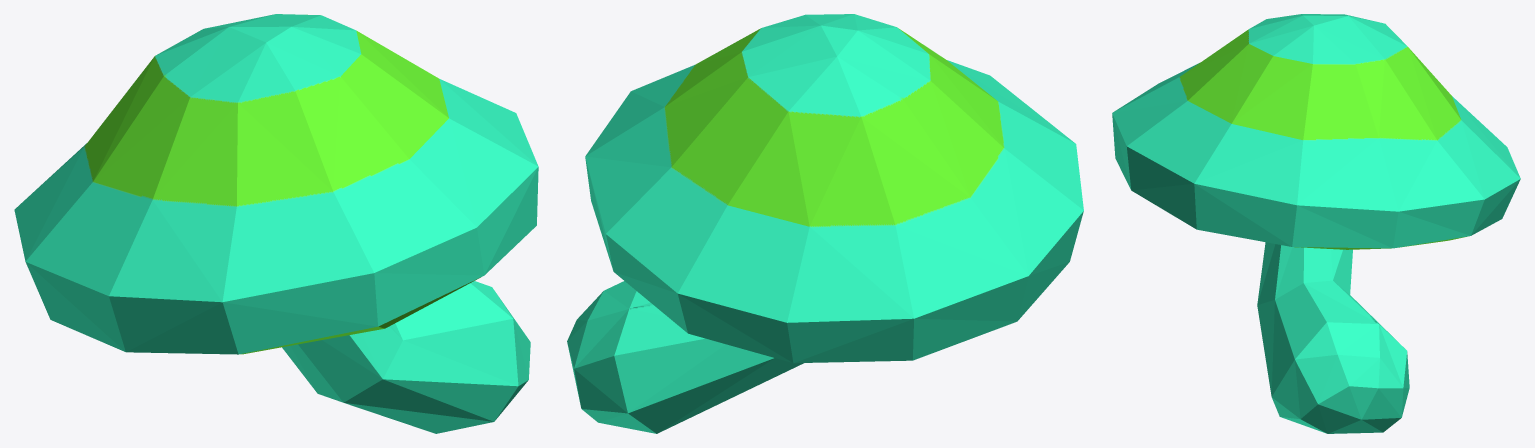
Rendered from Wall_Mushroom.fbx.
The picture shows the model from 3 angles, left to right: view 1: azimuth 30°, elevation 25°; view 2: azimuth 150°, elevation 25°; view 3: azimuth 270°, elevation 25°; orthographic projection. The views are drawn at different scales.
Parts seen in each view (by area): view 1: F_Mushroom; view 2: F_Mushroom; view 3: F_Mushroom.
Part boxes in pixels (bbox=[...]): F_Mushroom: bbox=[14, 14, 538, 433]; F_Mushroom: bbox=[567, 14, 1083, 433]; F_Mushroom: bbox=[1112, 14, 1520, 433].
Size of the model in its own units: 0.4145 by 0.3617 by 0.3944.
